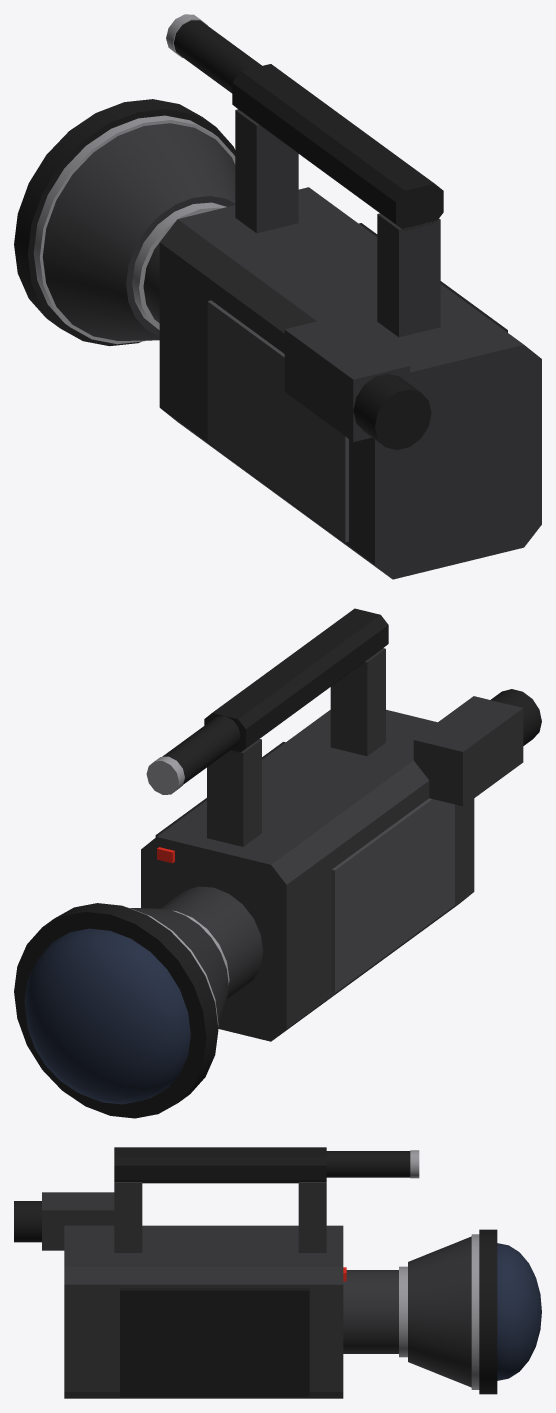
The picture shows the model from 3 angles, top to bottom: view 1: azimuth 30°, elevation 25°; view 2: azimuth 150°, elevation 25°; view 3: azimuth 270°, elevation 25°; orthographic projection. The views are drawn at different scales.
Visible parts, largest first — view 1: vx1000; view 2: vx1000; view 3: vx1000.
Part boxes in pixels (left/top/right/bottom): vx1000: left=14, top=14, right=541, bottom=579; vx1000: left=14, top=608, right=541, bottom=1118; vx1000: left=14, top=1147, right=541, bottom=1398.
Size of the model in its own units: 0.156 by 0.2325 by 0.473.
